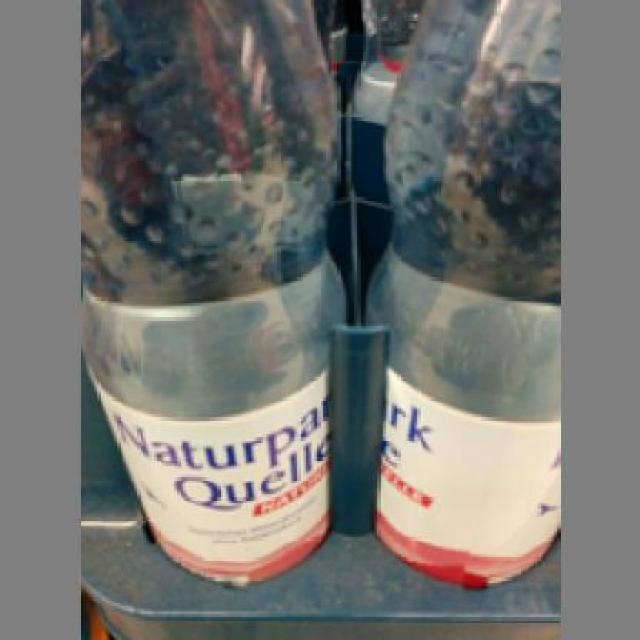Water: (77, 0, 340, 586), (357, 0, 557, 586)
